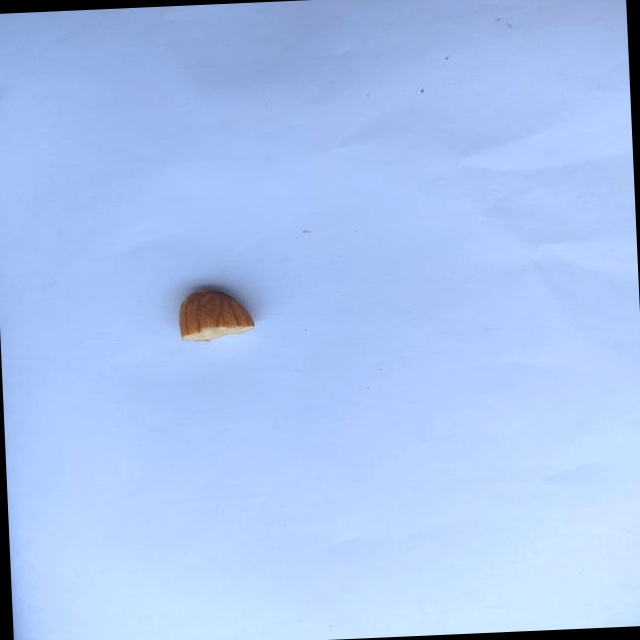grade4: (170, 281, 264, 347)
